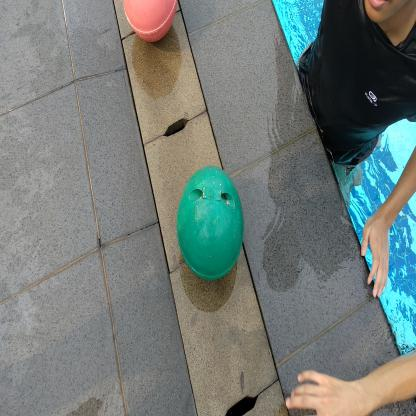green_buoy: (172, 159, 248, 291)
